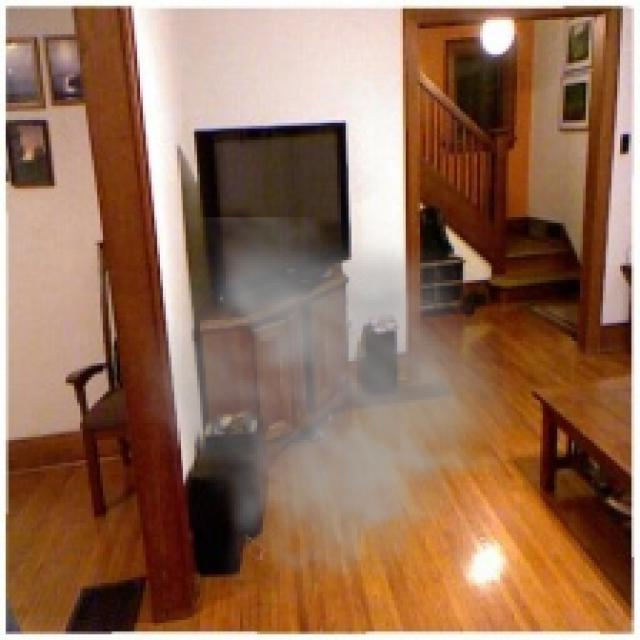smoke: (123, 217, 534, 623)
